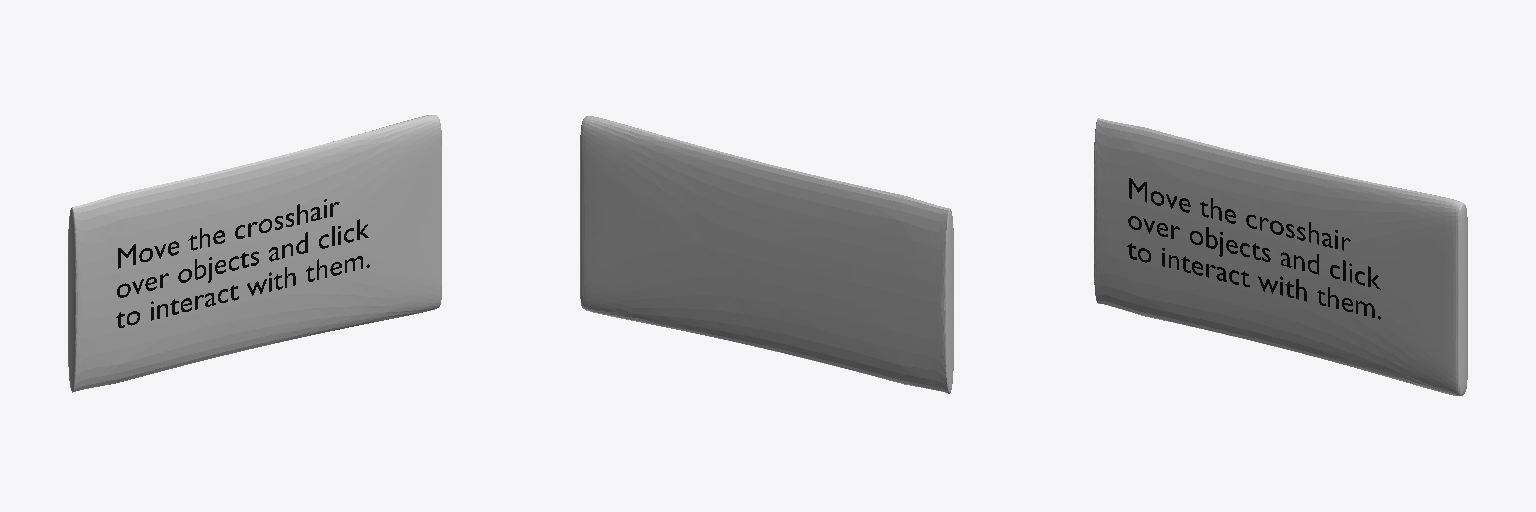
The model's file is VRSignDesktop.obj.
The picture shows the model from 3 angles: view 1: azimuth 30°, elevation 25°; view 2: azimuth 150°, elevation 25°; view 3: azimuth 330°, elevation 25°; orthographic projection.
Visible parts, largest first — view 1: Cube, Text.001; view 2: Cube; view 3: Cube, Text.001.
Part boxes in pixels (x1,y1,x2,y2): Cube: (68,115,441,392); Text.001: (116,199,369,327); Cube: (580,116,953,393); Cube: (1094,118,1467,395); Text.001: (1127,178,1380,319).
Size of the model in its own units: 4.29 by 2.17 by 0.2572.